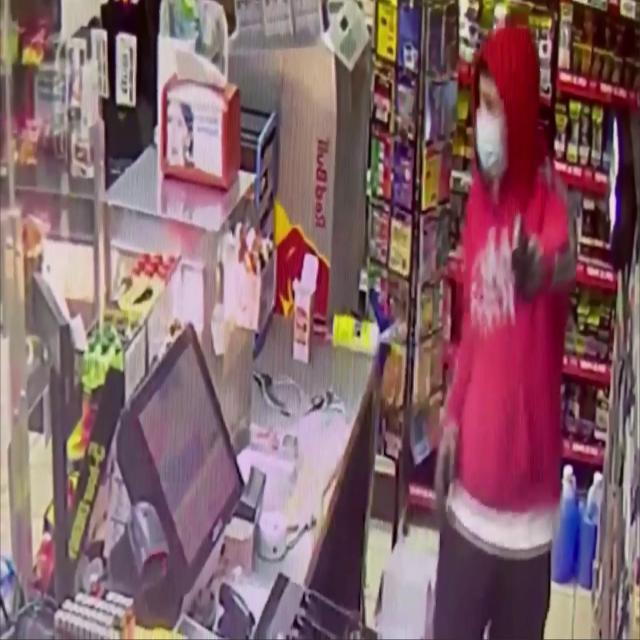Gun: (509, 212, 534, 300)
